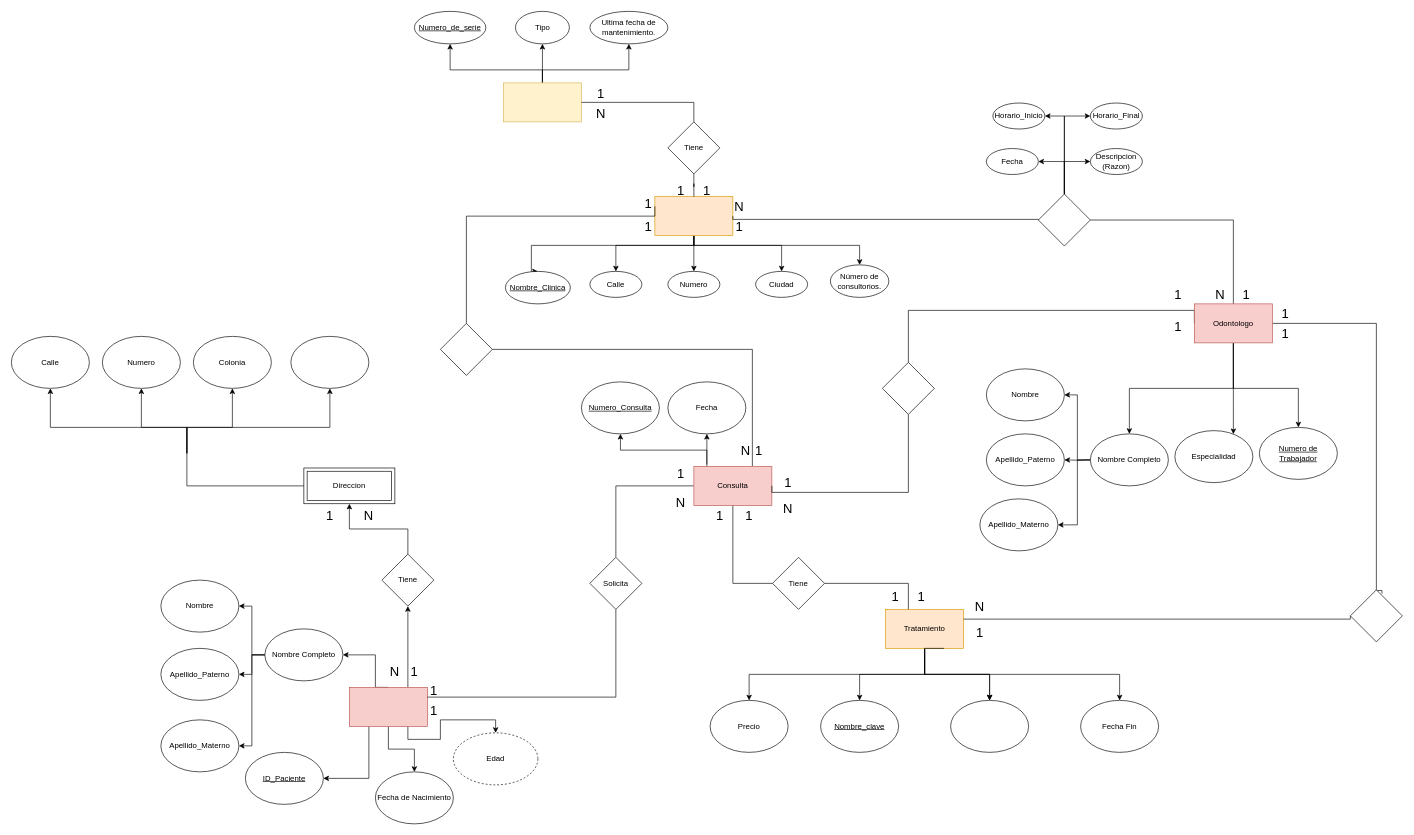
Some shapes in this 1414 by 835 pixel diagram are drawn without their labels. Here are the shapes that lost their labels. From the top down, the centre of each, then its label:
At (542,102): "Equipo".
At (693,216): "Clinica".
At (1064,219): "Trabaja".
At (329,362): "Código Postal".
At (466,349): "En".
At (908,388): "Brinda".
At (1376,615): "Realiza".
At (388,706): "Paciente".
At (989,726): "Fecha Inicio".
